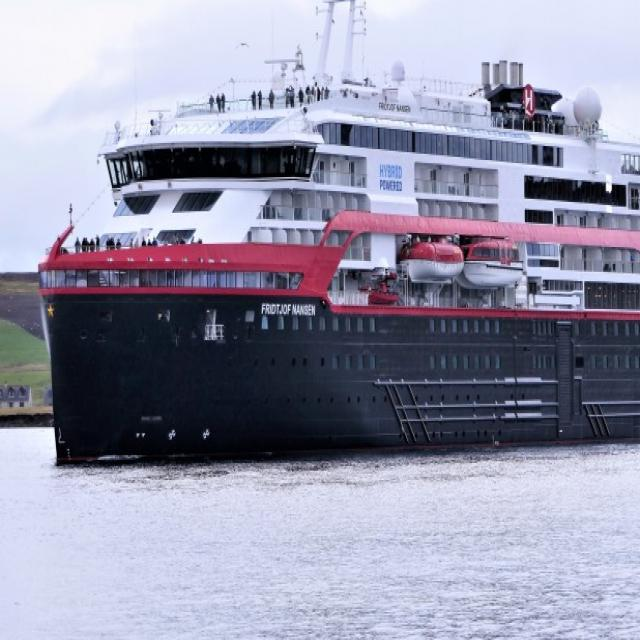cruises: (32, 1, 640, 470)
